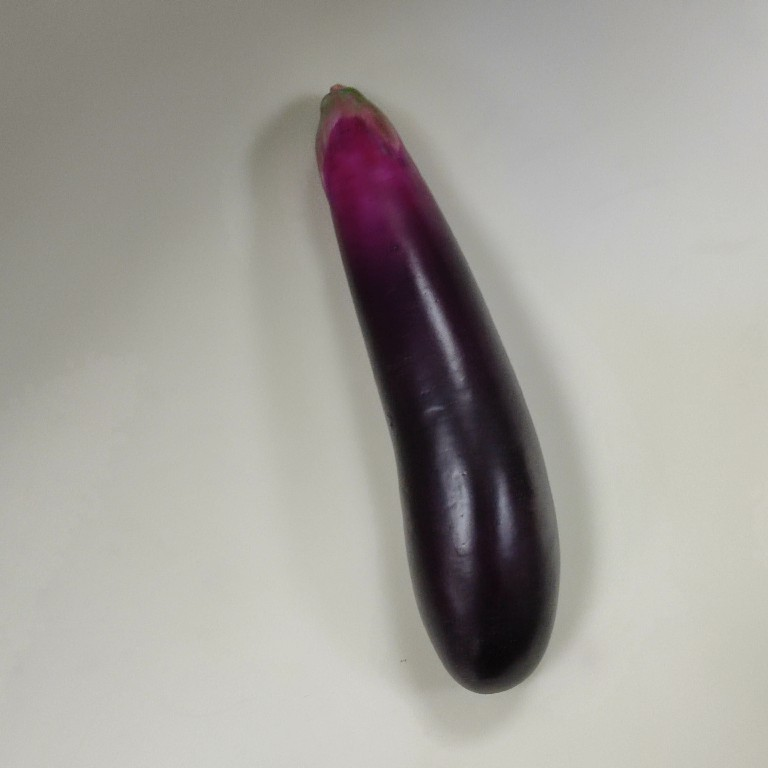fruit_eggplant: (307, 80, 566, 699)
